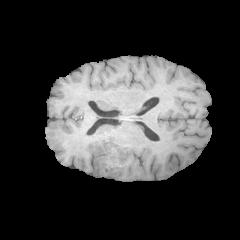glioma: (89, 138, 133, 178)
